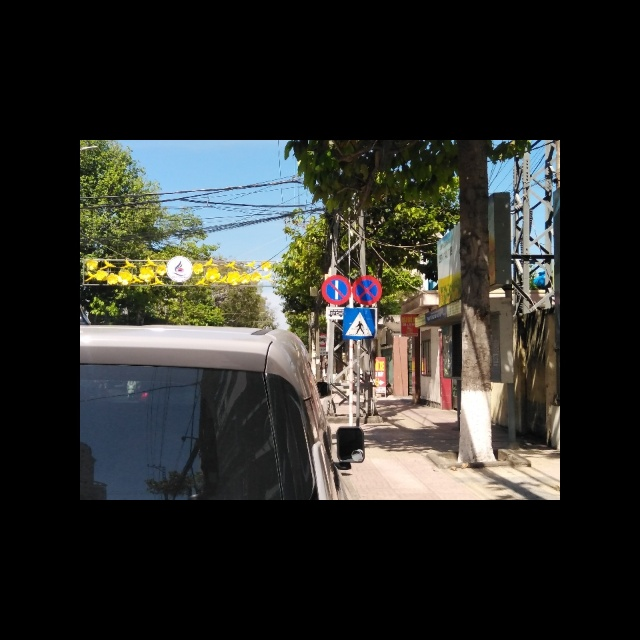Cấm dừng xe và đỗ xe: (352, 275, 384, 306)
Cấm đỗ xe ngày lẻ: (321, 274, 352, 306)
Đường dành cho người đi bộ: (343, 308, 376, 339)
